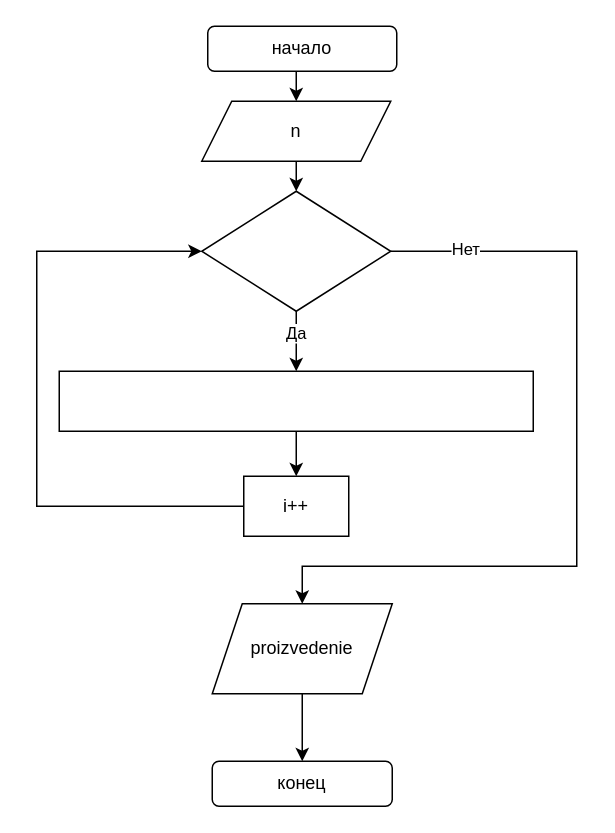
Image size: 615x833. Some labels were removed from this diagram. Each missing label, with the box of its shape:
i<=n: (200, 190, 391, 311)
proizvedenie *= 1.0 - (1.0 / pow(i, 2.0));: (58, 370, 533, 431)
